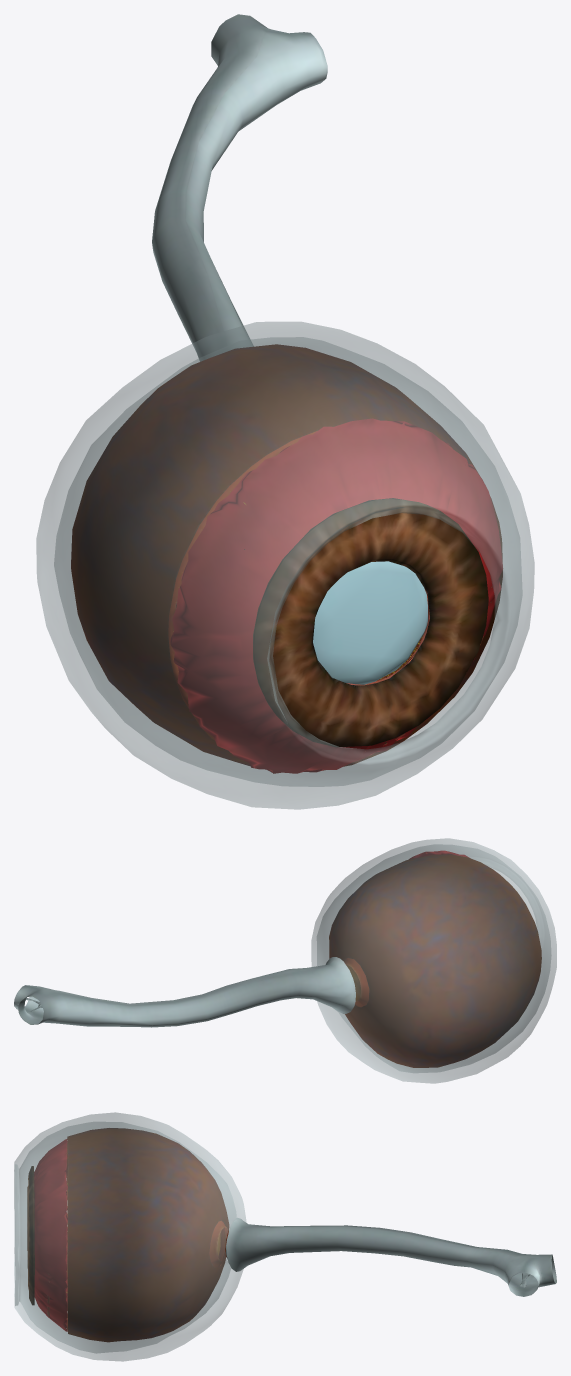
File: eye-layers.glb
3 renders of one model, top to bottom at view 1: azimuth 30°, elevation 25°; view 2: azimuth 150°, elevation 25°; view 3: azimuth 270°, elevation 25°, orthographic. The views are drawn at different scales.
Parts seen in each view (by area): view 1: Right_sclera, Right_choroid, Right_ciliary_body, Right_iris, Right_optic_sheath, Right_lens_capsule, Right_retina; view 2: Right_sclera, Right_choroid, Right_optic_sheath, Right_retina; view 3: Right_sclera, Right_choroid, Right_optic_sheath, Right_ciliary_body, Right_iris, Right_retina.
Part boxes in pixels (left/top/right/bottom): Right_sclera: left=36, top=322, right=534, bottom=809; Right_choroid: left=71, top=344, right=502, bottom=770; Right_ciliary_body: left=170, top=418, right=502, bottom=773; Right_iris: left=253, top=498, right=488, bottom=747; Right_optic_sheath: left=152, top=14, right=327, bottom=361; Right_lens_capsule: left=313, top=561, right=427, bottom=684; Right_retina: left=168, top=431, right=480, bottom=740; Right_sclera: left=311, top=838, right=556, bottom=1083; Right_choroid: left=329, top=854, right=541, bottom=1067; Right_optic_sheath: left=14, top=957, right=355, bottom=1027; Right_retina: left=343, top=958, right=369, bottom=1006; Right_sclera: left=14, top=1112, right=246, bottom=1361; Right_choroid: left=67, top=1128, right=229, bottom=1342; Right_optic_sheath: left=226, top=1217, right=556, bottom=1296; Right_ciliary_body: left=34, top=1139, right=67, bottom=1331; Right_iris: left=27, top=1166, right=34, bottom=1305; Right_retina: left=66, top=1143, right=228, bottom=1329.
Bounding box in the file's own units: 0.0434 × 0.0285 × 0.0622.
Materials: 13 (13 with a texture image).
